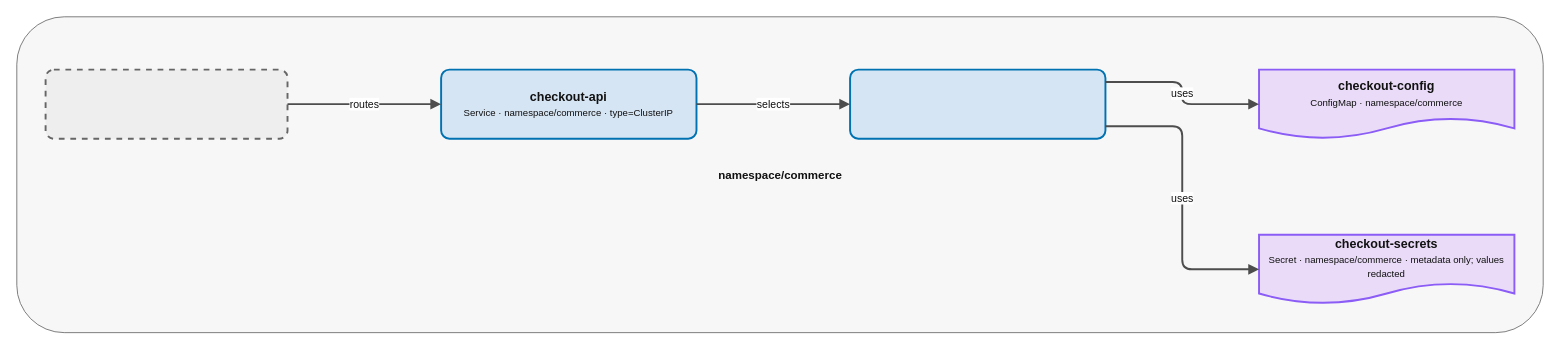
This 1560x349 diagram has some shape labels left out. Here are the shapes that lost their labels. From the top down, the box of each, then its label:
(44, 68, 288, 139): checkout Ingress · namespace/commerce
(849, 68, 1106, 139): checkout-api Deployment · namespace/commerce · replicas=3
